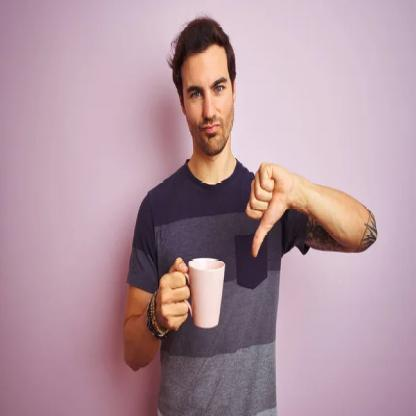thumb_down: (243, 160, 292, 260)
